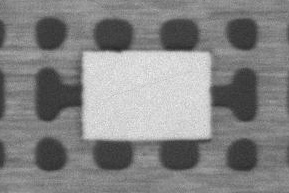DIE_CRACK: (168, 47, 286, 63)
